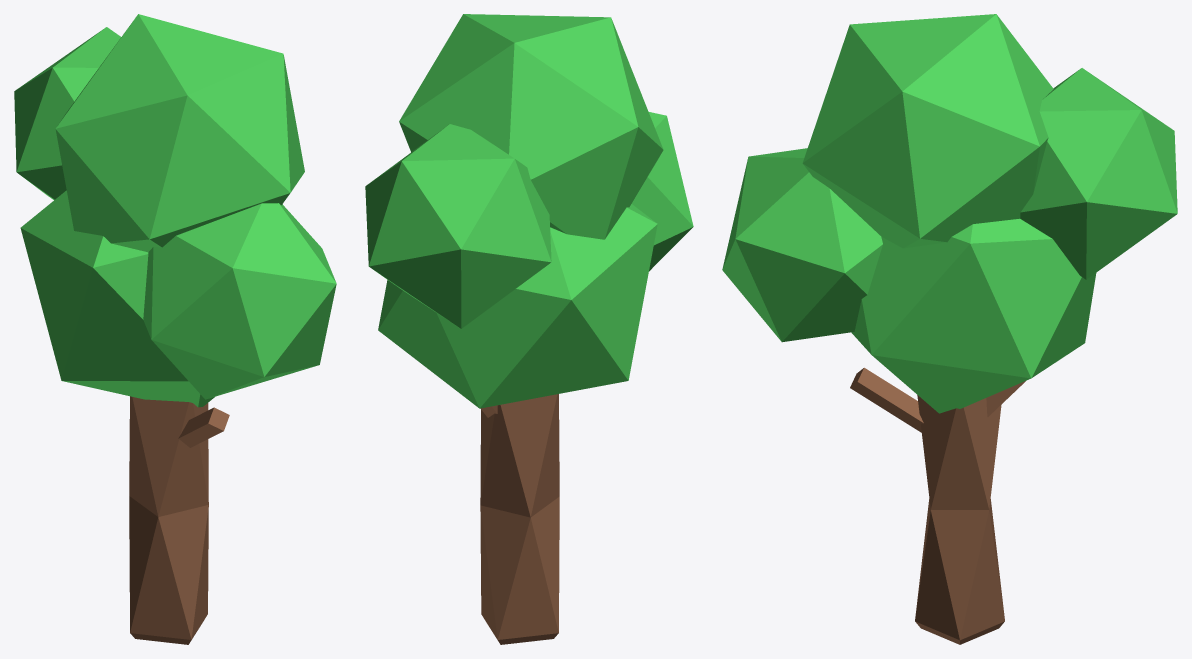
The model's file is tree.glb.
3 views of the same model, side by side, from view 1: azimuth 30°, elevation 25°; view 2: azimuth 150°, elevation 25°; view 3: azimuth 270°, elevation 25° (orthographic).
Visible parts, largest first — view 1: Icosphere.003, Cube, Cube.002; view 2: Icosphere.003, Cube; view 3: Icosphere.003, Cube, Cube.002.
Part boxes in pixels (x1,y1,x2,y2): Icosphere.003: [14, 14, 336, 407]; Cube: [129, 396, 208, 644]; Cube.002: [178, 407, 229, 447]; Icosphere.003: [365, 14, 693, 408]; Cube: [480, 394, 559, 644]; Icosphere.003: [722, 14, 1177, 413]; Cube: [915, 395, 1004, 644]; Cube.002: [850, 367, 923, 432].
Size of the model in its own units: 2.11 by 5.26 by 3.57.
